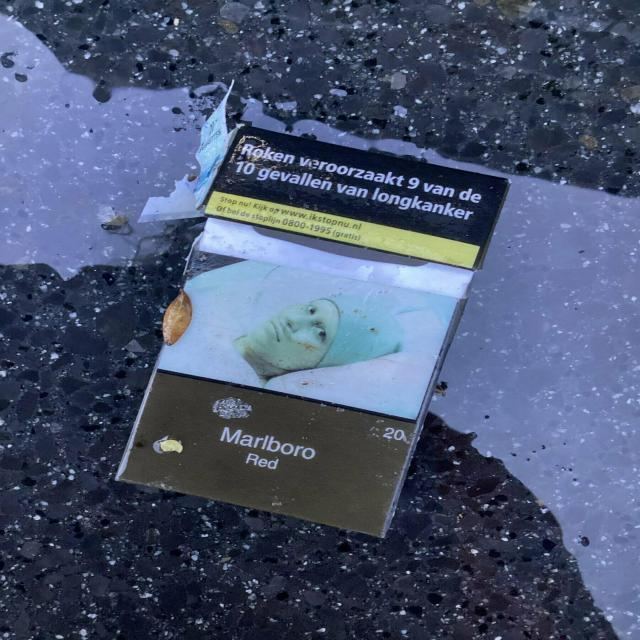Paper: (103, 70, 514, 542)
